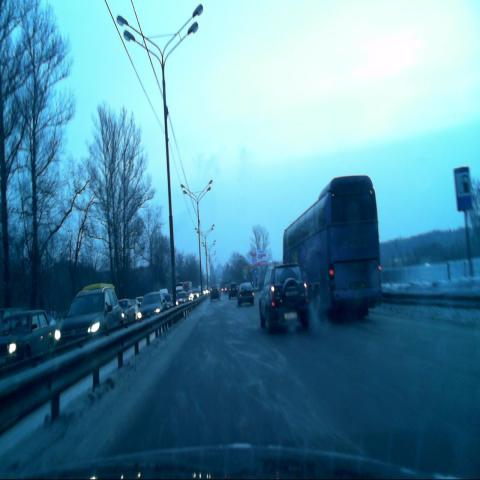7_3: (453, 166, 472, 212)
